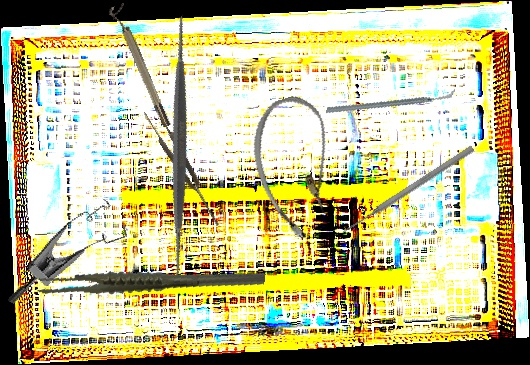Cannula: (239, 89, 355, 246)
Chopper: (325, 54, 456, 148)
Fixation Ring: (107, 2, 173, 131)
Pusher: (340, 143, 476, 237)
Spatula Surgical: (38, 6, 320, 287)
Speculum: (5, 183, 138, 336)
Tissue Forceps: (36, 236, 267, 329), (142, 104, 225, 231)
